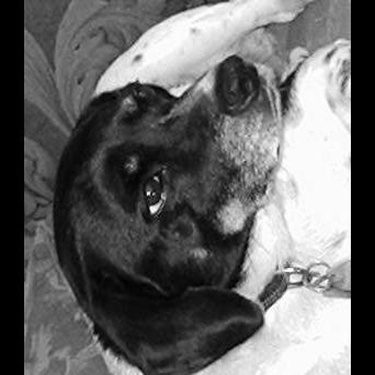dog: (53, 1, 350, 373)
